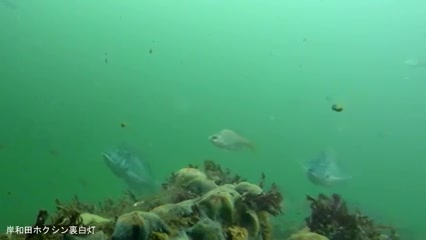smallfish: (204, 121, 261, 156)
